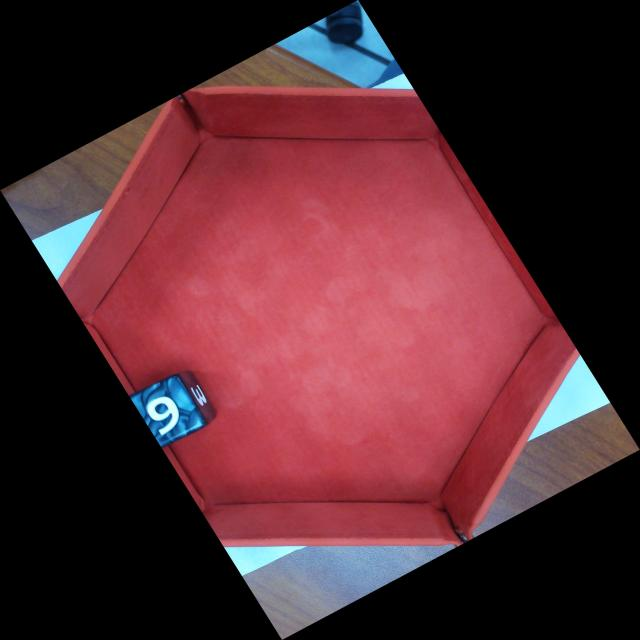dice: (127, 373, 209, 448)
